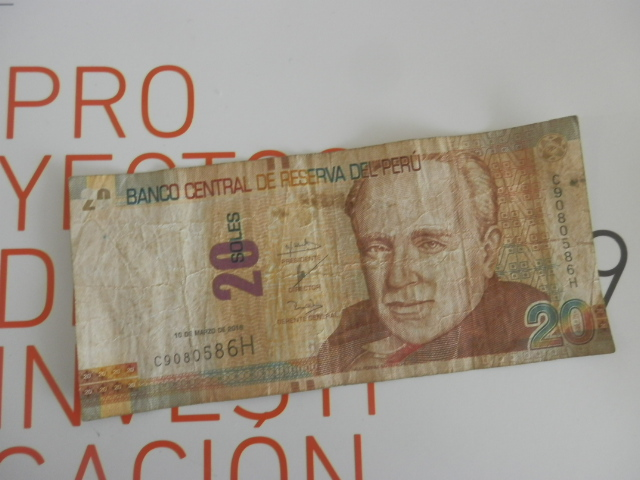B20: (62, 120, 613, 419)
